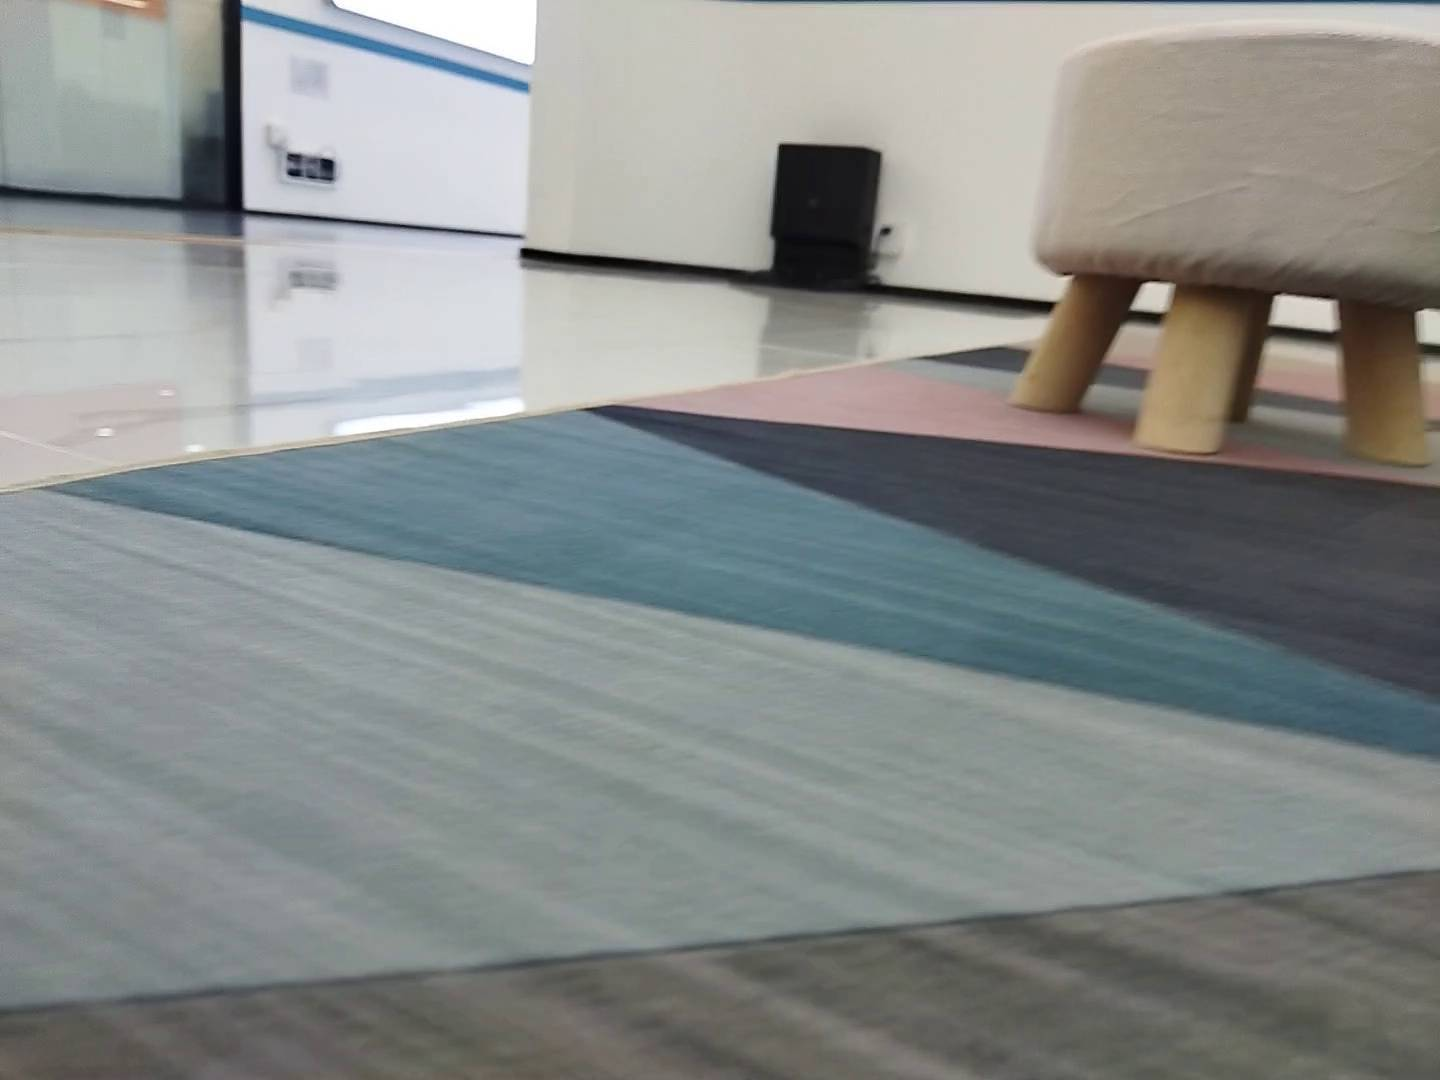dust collecting barrel: (729, 143, 884, 294)
